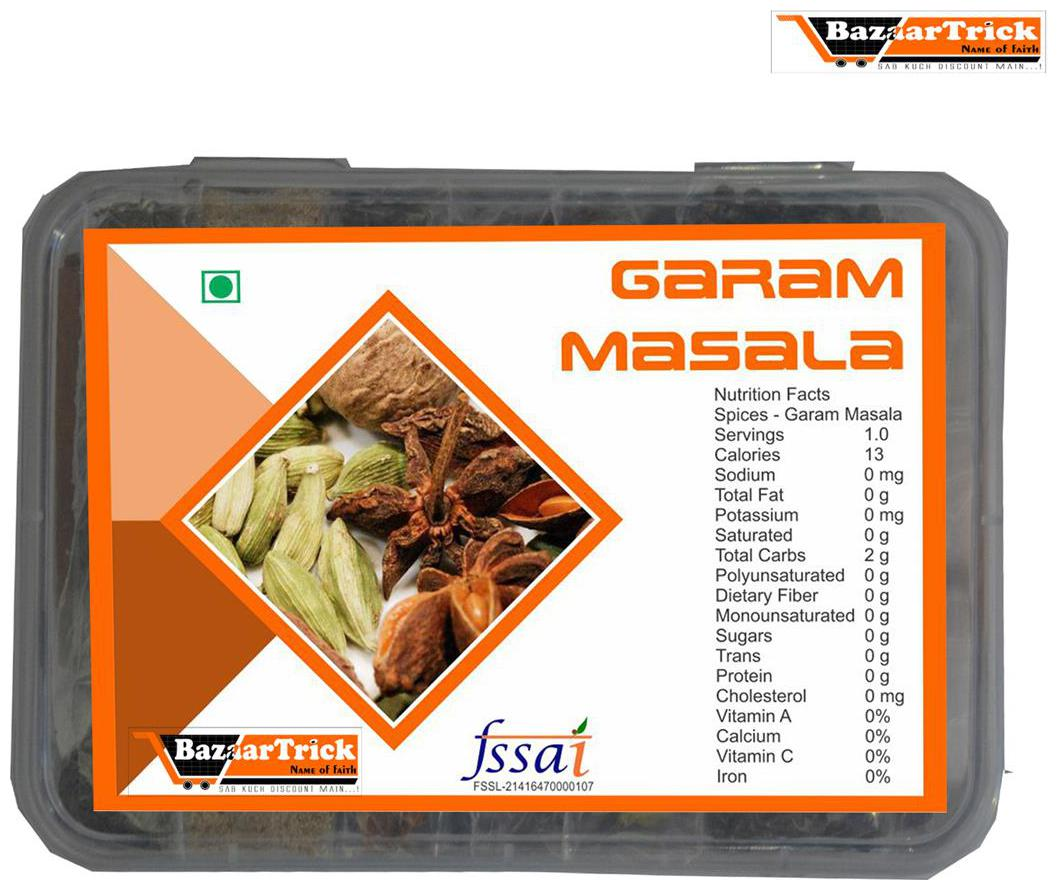fssai: (460, 715, 595, 779)
